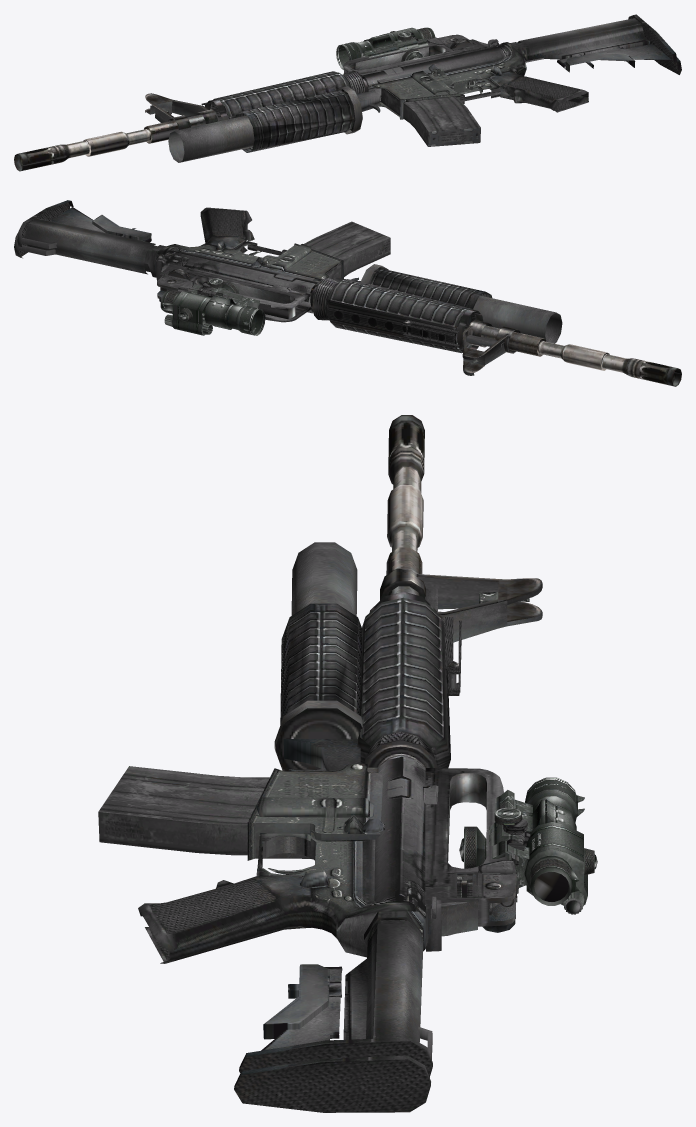
The picture shows the model from 3 angles, top to bottom: view 1: azimuth 30°, elevation 25°; view 2: azimuth 150°, elevation 25°; view 3: azimuth 270°, elevation 25°; orthographic projection. The views are drawn at different scales.
Parts seen in each view (by area): view 1: _cr203_1st; view 2: _cr203_1st; view 3: _cr203_1st.
Boxes of the visible parts, bbox=[...] form: _cr203_1st: bbox=[14, 14, 681, 171]; _cr203_1st: bbox=[14, 200, 681, 386]; _cr203_1st: bbox=[98, 415, 597, 1112].
Size of the model in its own units: 0.9265 by 0.0746 by 0.3218.
3 materials, 3 textured.
